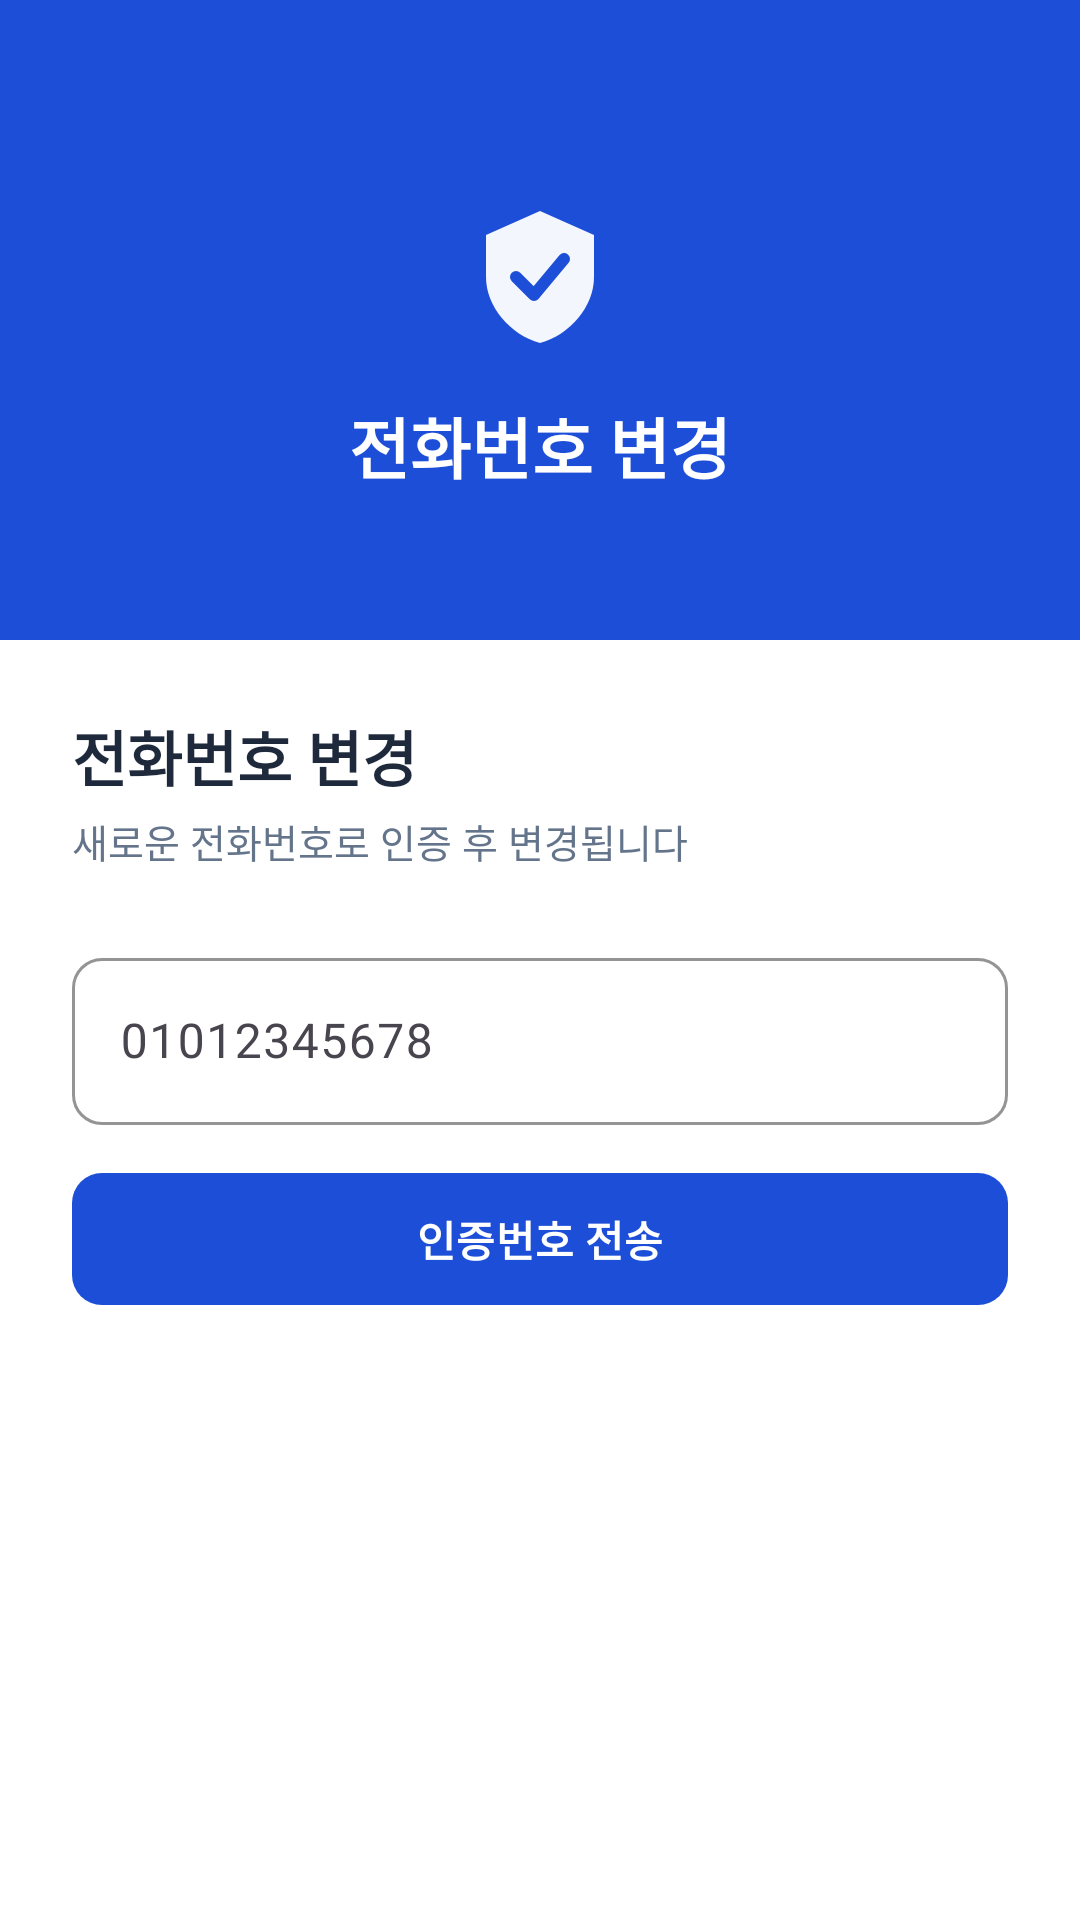

Icons on this 1080px x 1920px Android screen, each with its box as [x1,y1,x2,y2]:
shield: [486,211,594,343]
